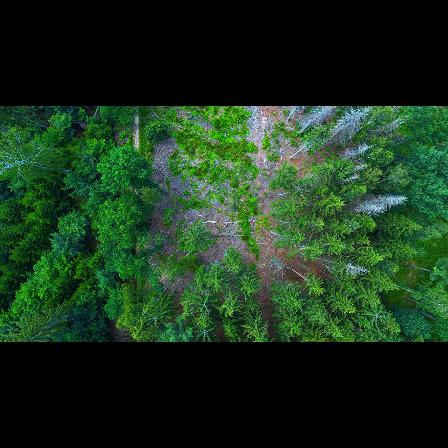Dead: (319, 111, 368, 149), (298, 105, 338, 139), (363, 191, 411, 210), (339, 141, 373, 160), (347, 203, 388, 218), (339, 261, 370, 276), (335, 174, 361, 189), (350, 161, 370, 172)
